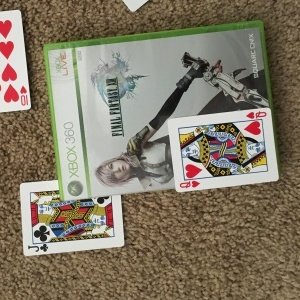card: (169, 107, 281, 193), (17, 178, 127, 256)
